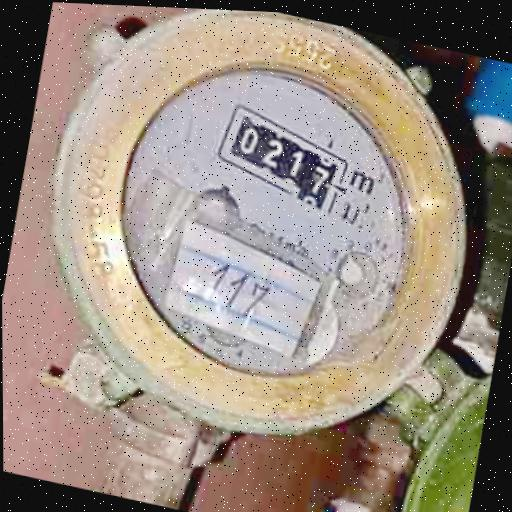0: (225, 112, 269, 166)
1: (275, 139, 316, 191)
2: (249, 125, 294, 179)
7: (294, 150, 339, 212)
border_water_meter_number: (205, 97, 359, 219)
